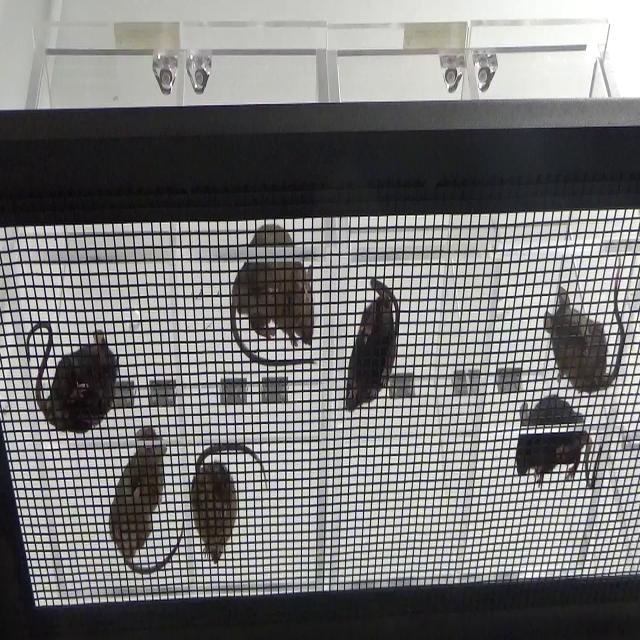scratch: (538, 252, 627, 398)
